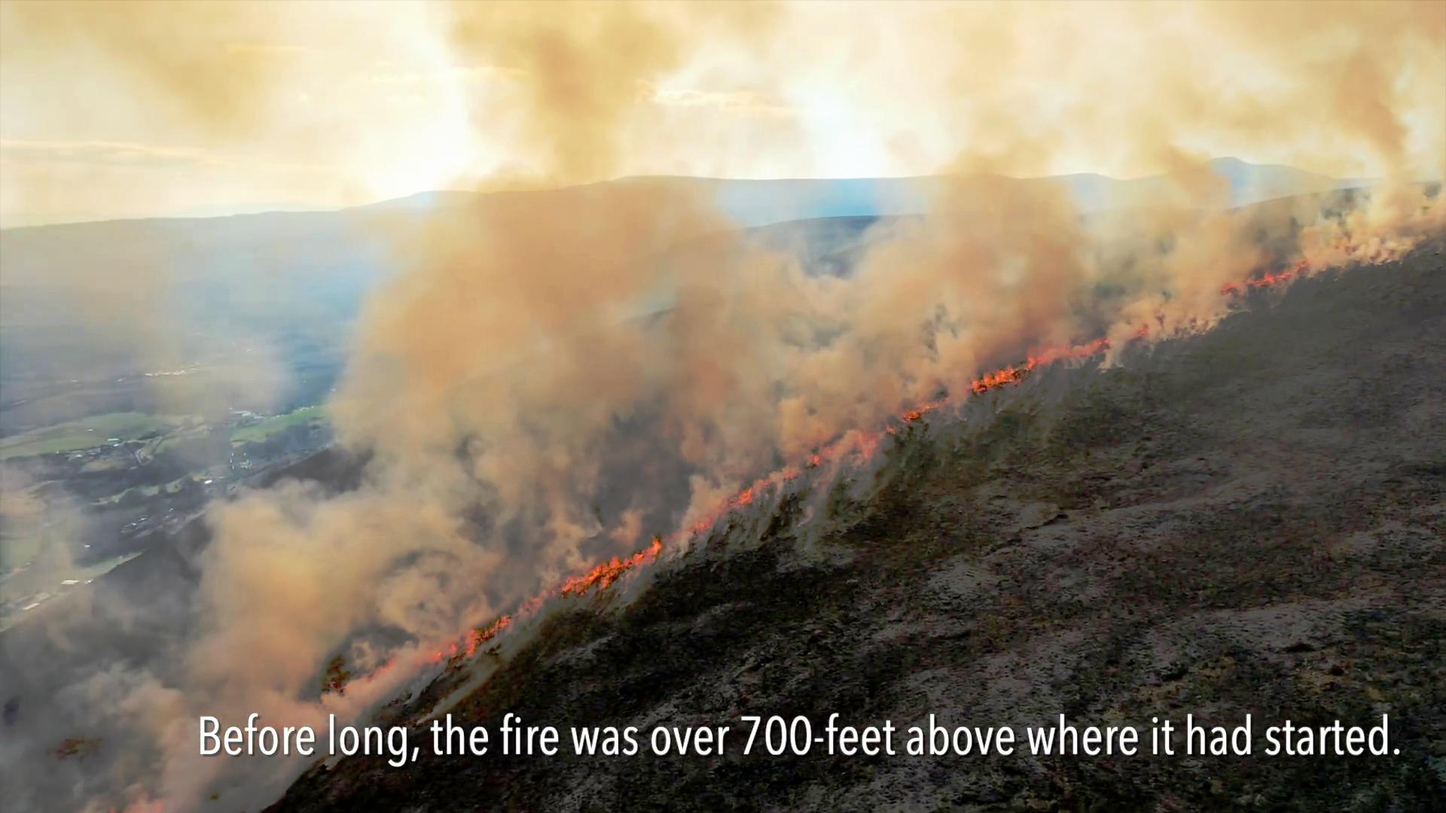smoke: (930, 175, 1070, 350), (226, 505, 380, 652), (1143, 94, 1251, 291), (1337, 34, 1416, 229), (663, 285, 727, 487), (769, 273, 817, 443), (874, 258, 894, 410)
